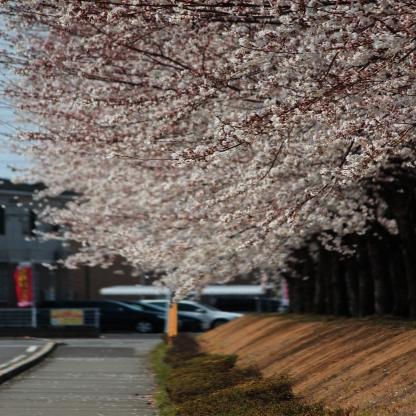Someiyoshino: (0, 2, 412, 297)
